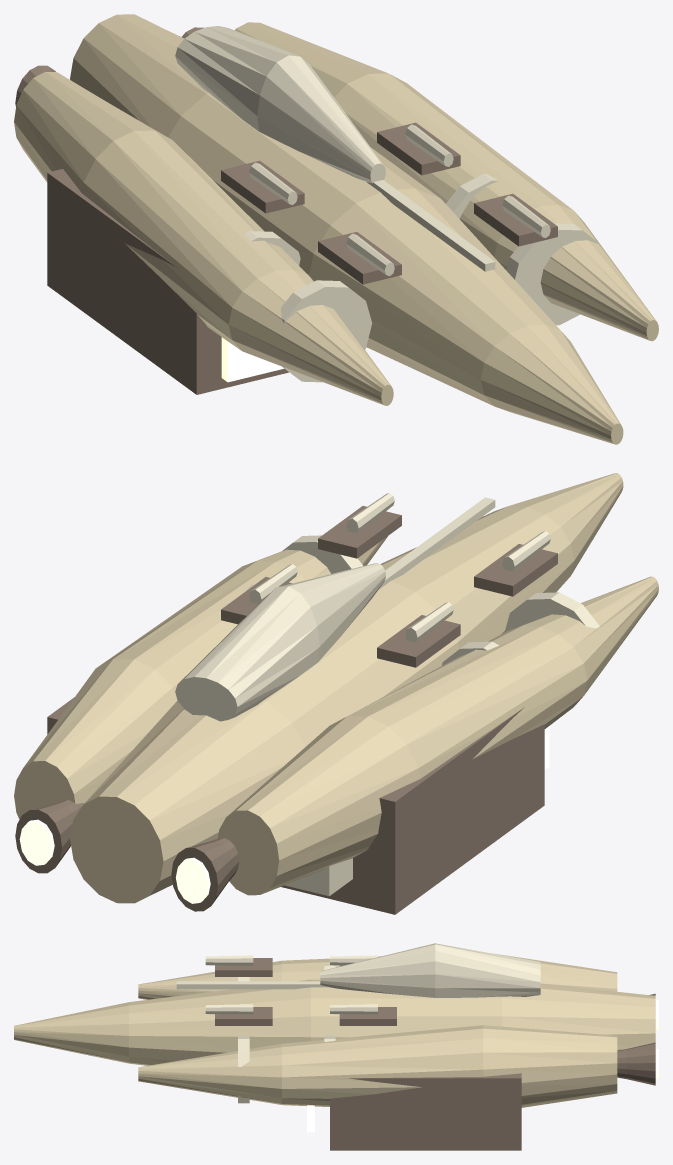
3 renders of one model, top to bottom at view 1: azimuth 30°, elevation 25°; view 2: azimuth 150°, elevation 25°; view 3: azimuth 270°, elevation 25°, orthographic. The views are drawn at different scales.
Bounding box in the file's own units: 6.65 × 4.2 × 16.15.
